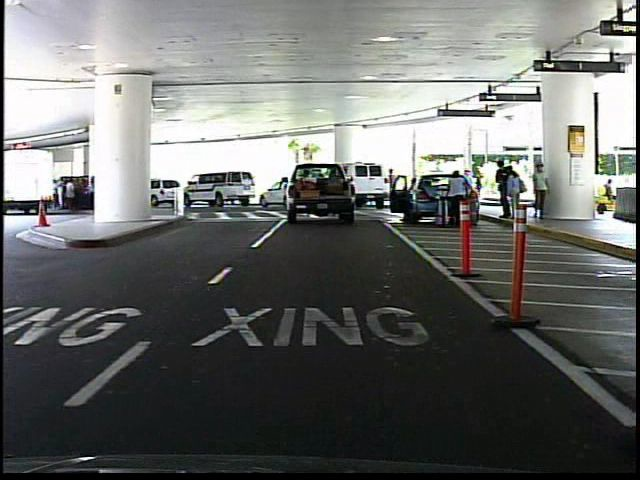person: (442, 164, 469, 230), (529, 159, 551, 224), (384, 165, 401, 210)
